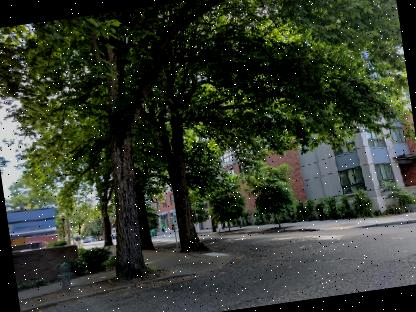tree: (3, 0, 408, 293)
